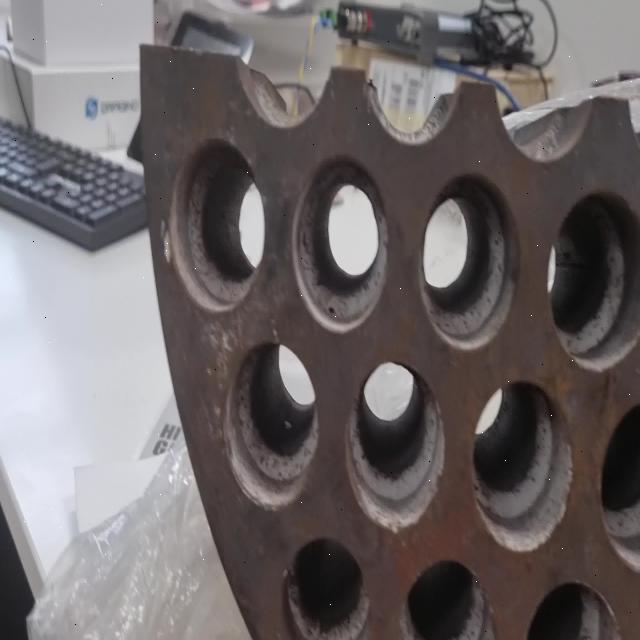Hole: (418, 171, 521, 351), (471, 378, 574, 554), (164, 136, 267, 312), (345, 360, 446, 533), (292, 154, 389, 334), (548, 186, 640, 373), (225, 338, 319, 510), (281, 536, 370, 639), (400, 558, 498, 640), (599, 400, 640, 578), (522, 580, 630, 640)
